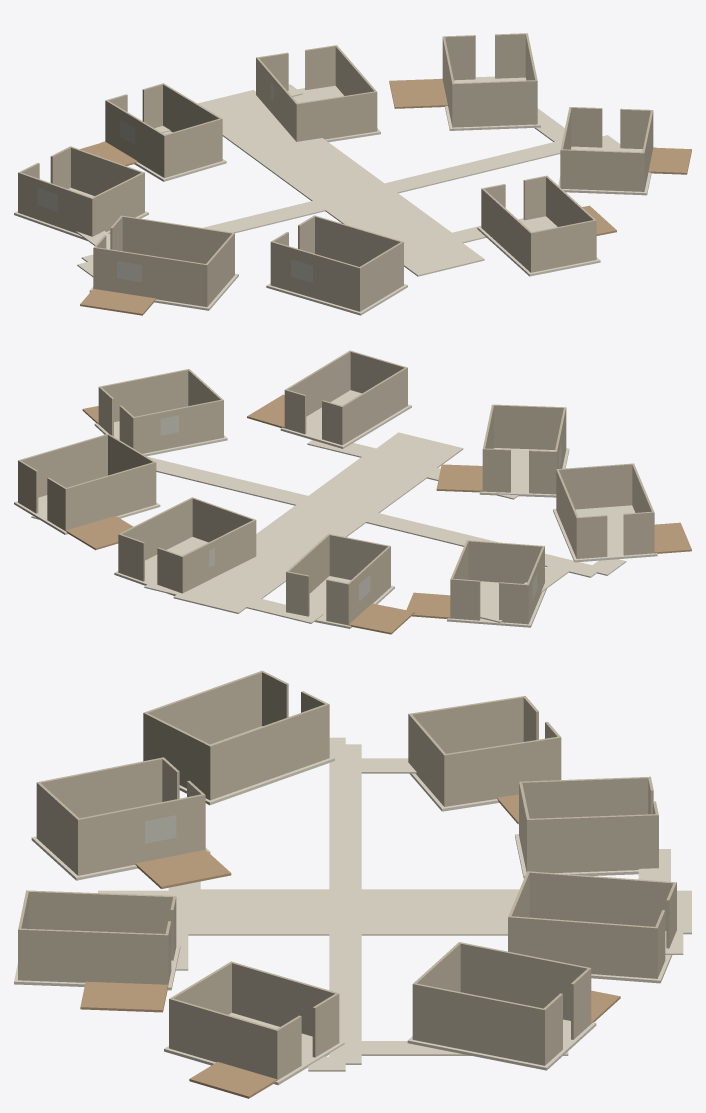
File: retreat-village.lod1.glb
3 views of the same model, one above another, from view 1: azimuth 30°, elevation 25°; view 2: azimuth 150°, elevation 25°; view 3: azimuth 270°, elevation 25° (orthographic). The views are drawn at different scales.
Size of the model in its own units: 37.11 by 3.96 by 27.4.
